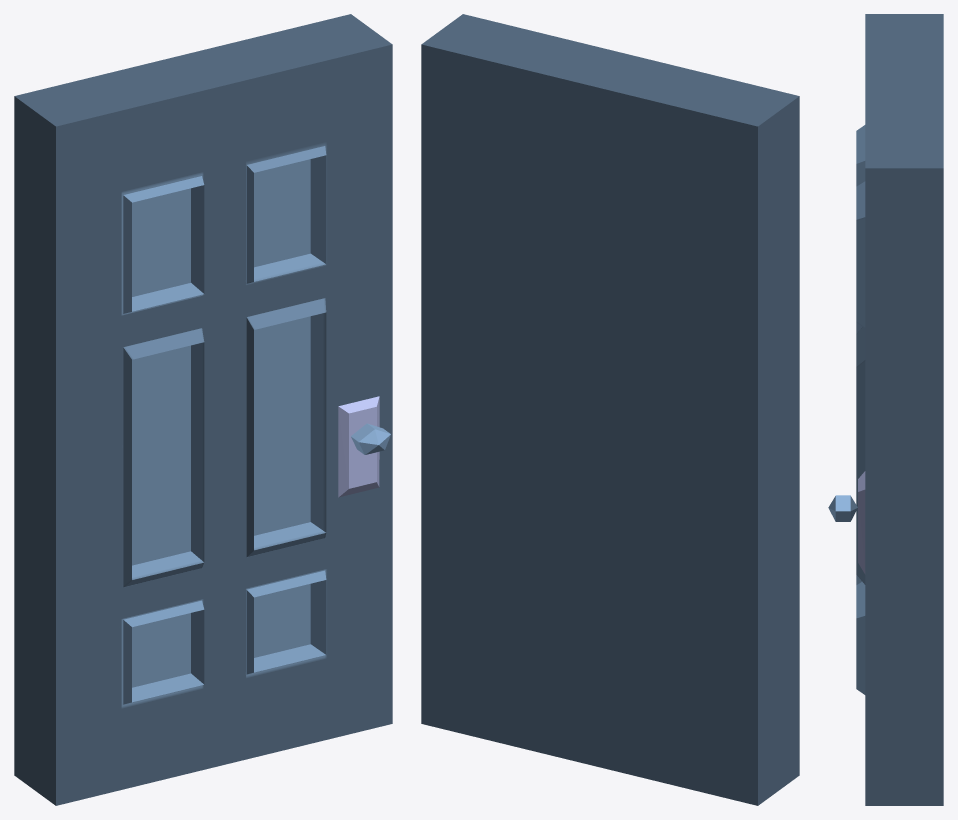
File: Door.fbx
3 renders of one model, left to right at view 1: azimuth 30°, elevation 25°; view 2: azimuth 150°, elevation 25°; view 3: azimuth 270°, elevation 25°, orthographic. The views are drawn at different scales.
Visible parts, largest first — view 1: Door; view 2: Door; view 3: Door.
Boxes of the visible parts, <box> form: Door: <box>14,14,392,805</box>; Door: <box>421,14,799,805</box>; Door: <box>828,14,943,805</box>.
Size of the model in its own units: 70 by 135 by 22.13.
Materials: 1 (1 with a texture image).
